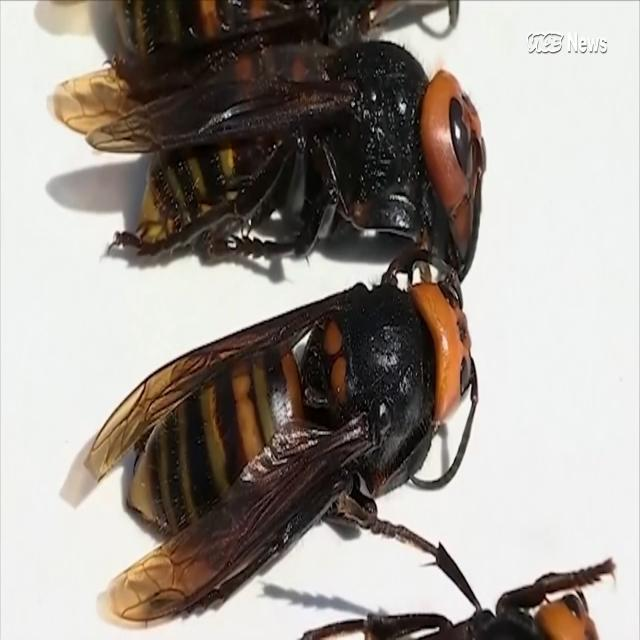Hornets: (79, 245, 483, 625), (52, 31, 488, 292)
